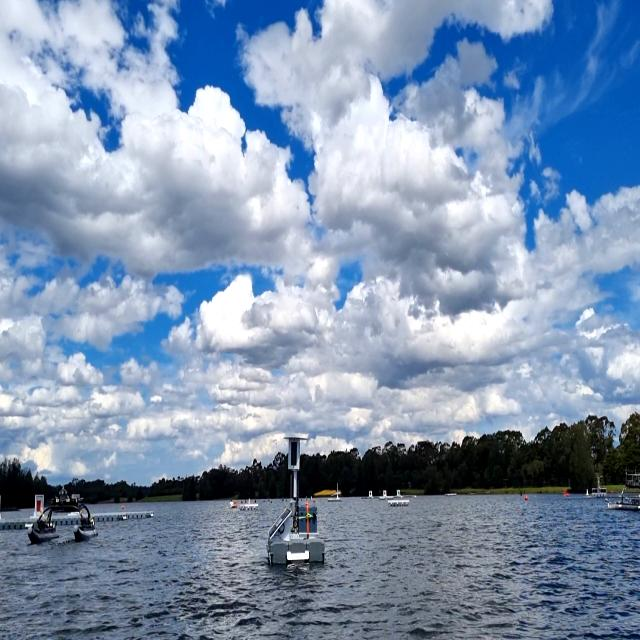led: (290, 439, 298, 468)
